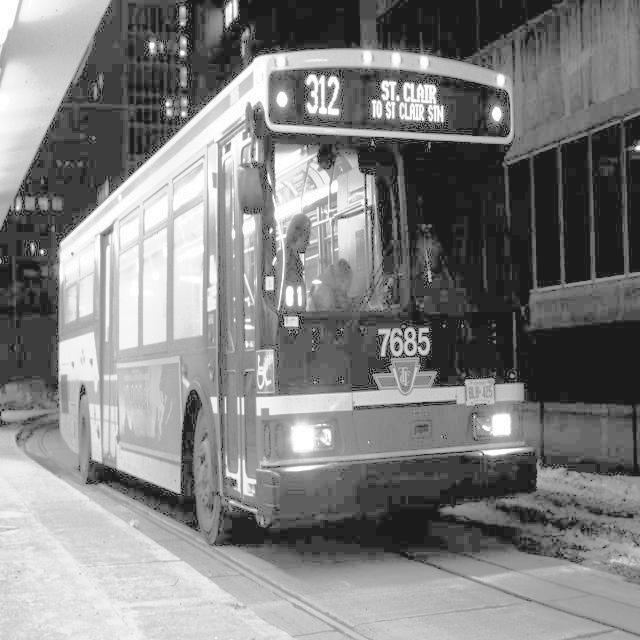Bus: (50, 40, 551, 596)
